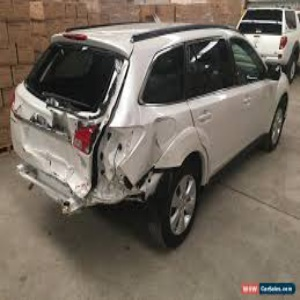bumper: (53, 157, 134, 213)
